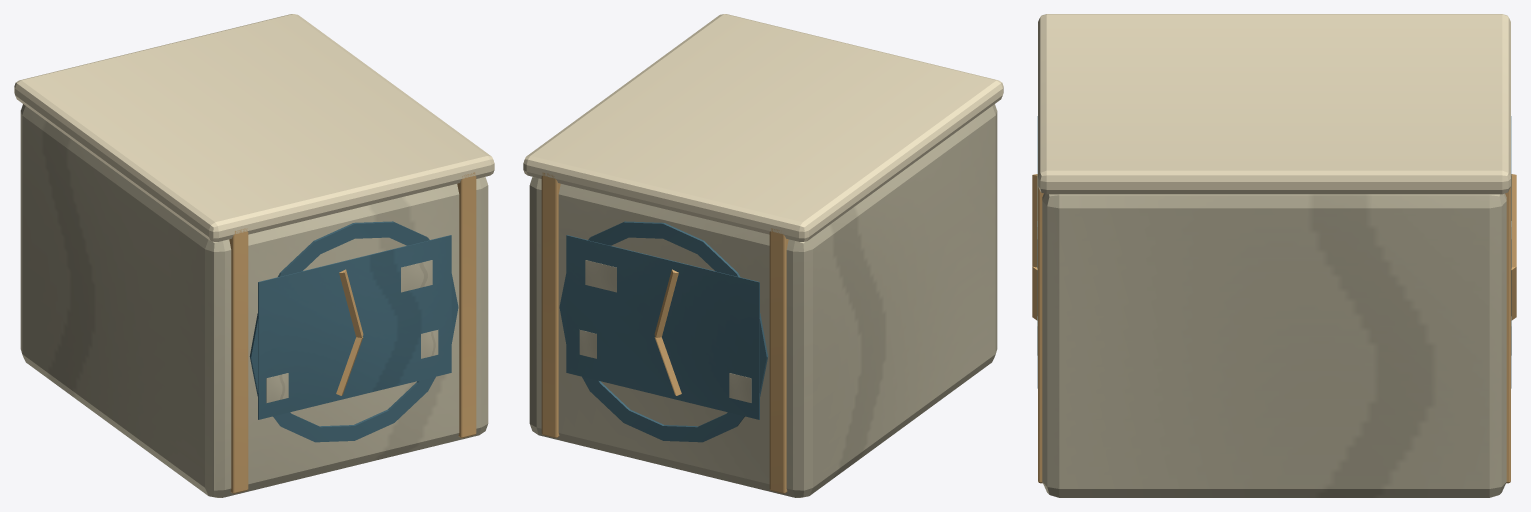
The model's file is cover.glb.
3 views of the same model, side by side, from view 1: azimuth 30°, elevation 25°; view 2: azimuth 150°, elevation 25°; view 3: azimuth 270°, elevation 25° (orthographic). The views are drawn at different scales.
Parts seen in each view (by area): view 1: cover_solid; view 2: cover_solid; view 3: cover_solid.
Part boxes in pixels (bbox=[...]): cover_solid: bbox=[14, 14, 494, 497]; cover_solid: bbox=[523, 14, 1003, 497]; cover_solid: bbox=[1032, 14, 1516, 497].
Bounding box in the file's own units: 1.8 × 1.7 × 2.25.
4 materials, 2 textured.
